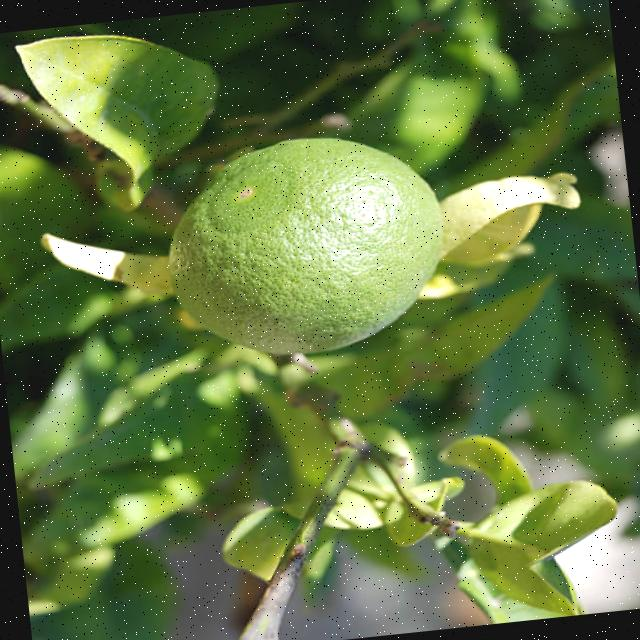Unripe: (154, 124, 458, 366)
